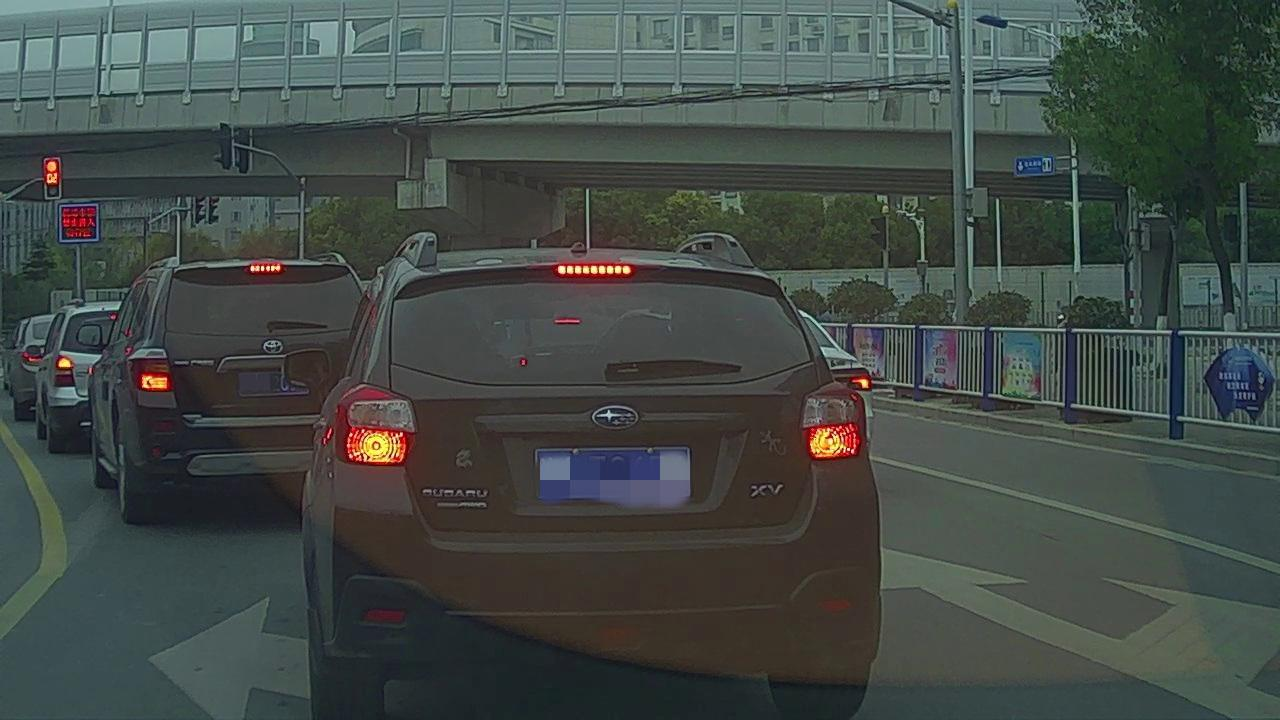traffic_light: (44, 157, 57, 196)
